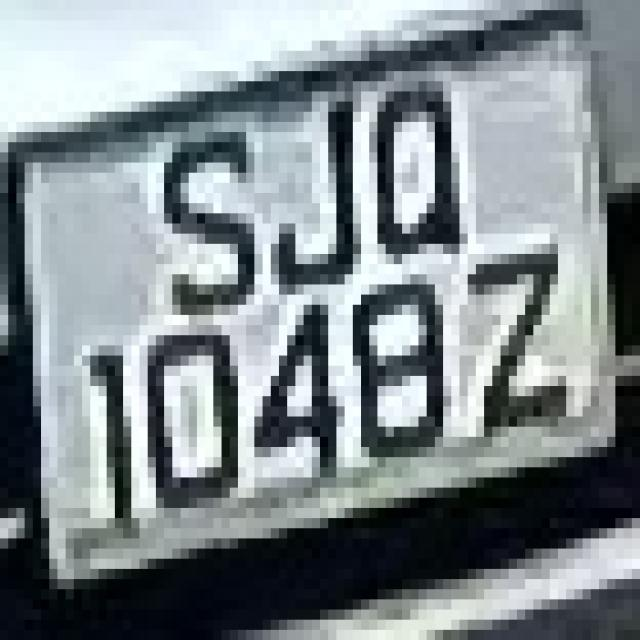0: (123, 284, 238, 528)
1: (82, 305, 164, 569)
4: (238, 295, 361, 518)
8: (345, 244, 443, 498)
J: (238, 71, 377, 325)
Q: (353, 31, 476, 294)
S: (140, 71, 254, 366)
Z: (451, 182, 599, 488)
